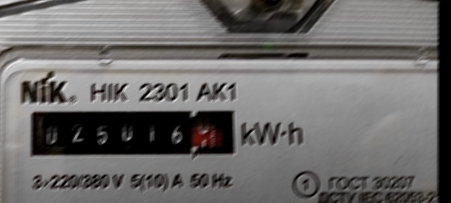0: (120, 119, 134, 142), (44, 123, 57, 145), (196, 114, 208, 135)
1: (145, 118, 156, 143), (198, 137, 206, 148)
2: (70, 120, 83, 143)
5: (95, 123, 106, 144)
6: (169, 121, 182, 146)
screen: (21, 101, 243, 163)
